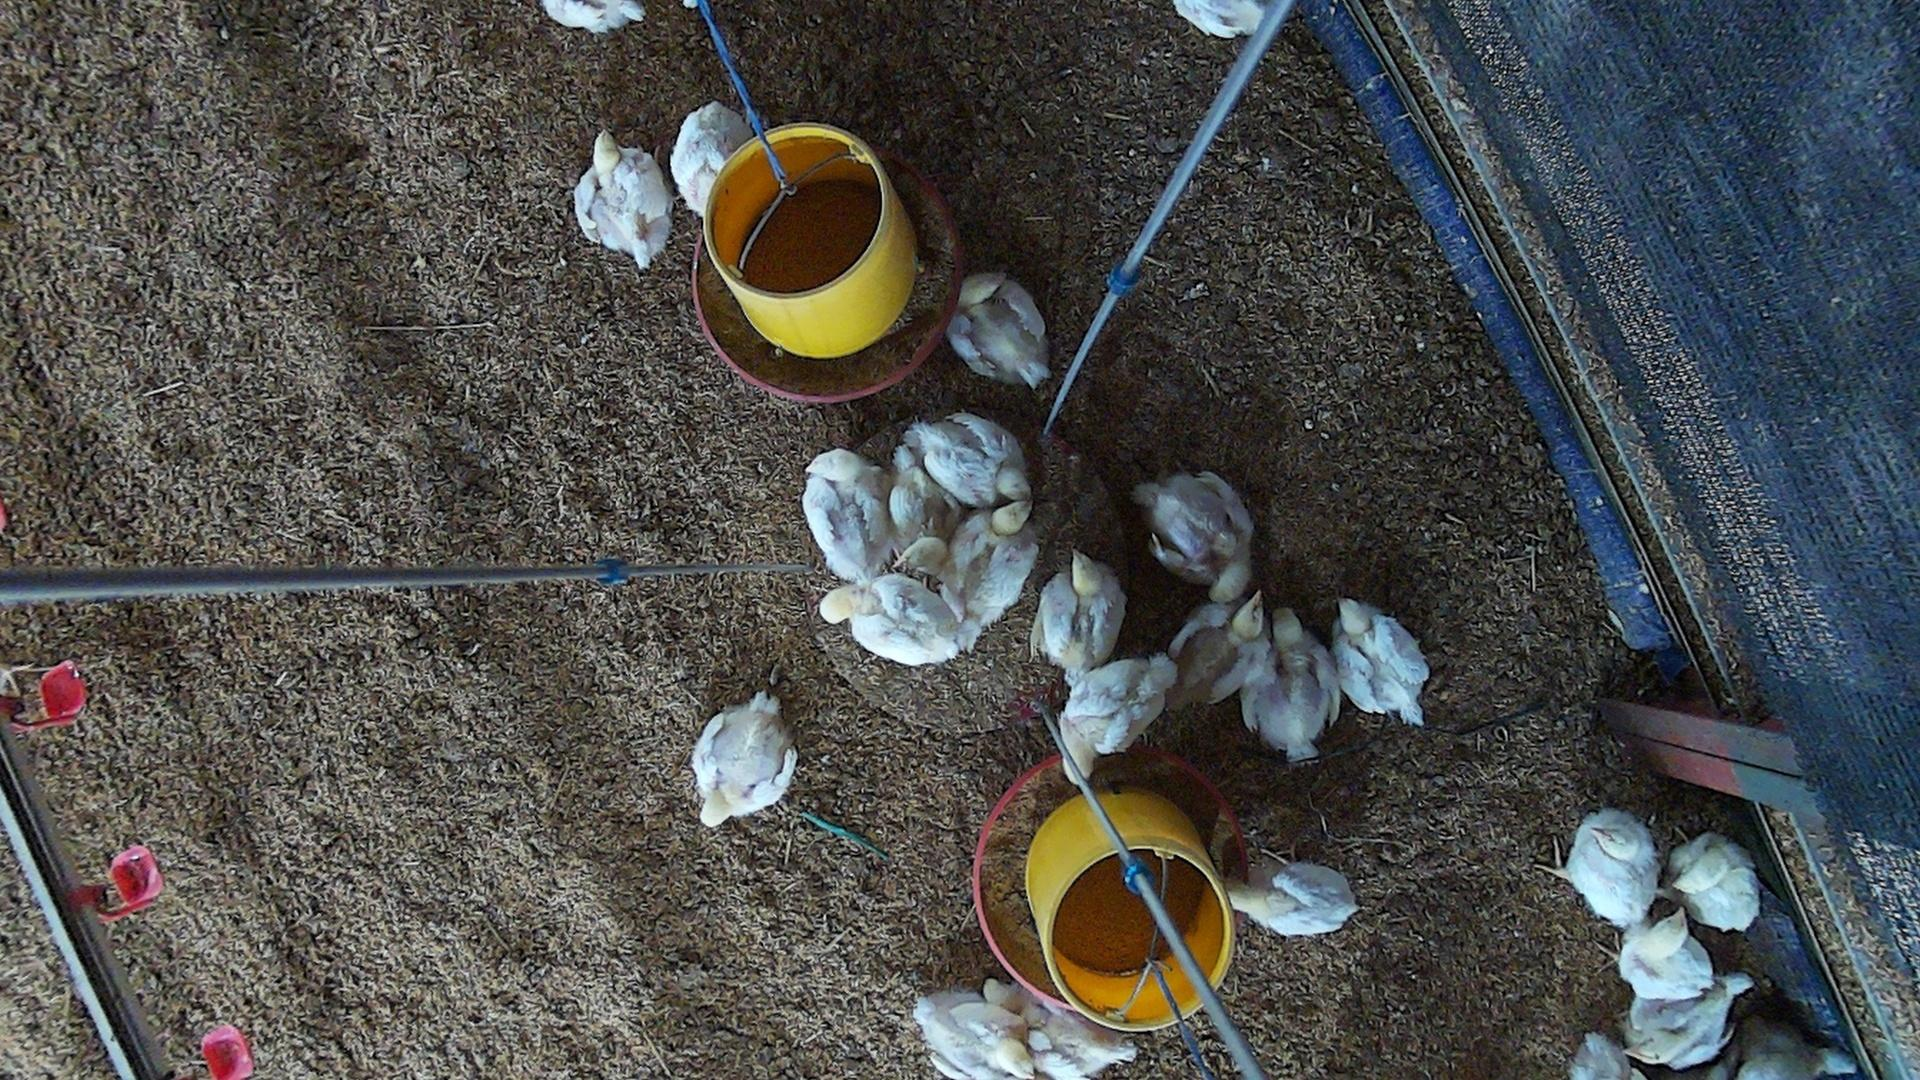ayam_broiler: (1131, 469, 1254, 603), (1241, 601, 1340, 762), (1058, 651, 1178, 783), (1166, 563, 1269, 705), (1538, 808, 1659, 928), (694, 692, 796, 829), (819, 571, 967, 665), (574, 129, 671, 269), (943, 498, 1036, 640), (1000, 986, 1135, 1080), (897, 413, 1030, 508), (1333, 599, 1428, 728), (947, 270, 1047, 386), (803, 448, 889, 582), (914, 988, 1034, 1080), (1043, 553, 1122, 683), (1623, 984, 1745, 1067), (889, 444, 959, 575), (1229, 864, 1357, 934), (1669, 831, 1759, 930), (1619, 913, 1714, 998), (671, 103, 741, 218)
